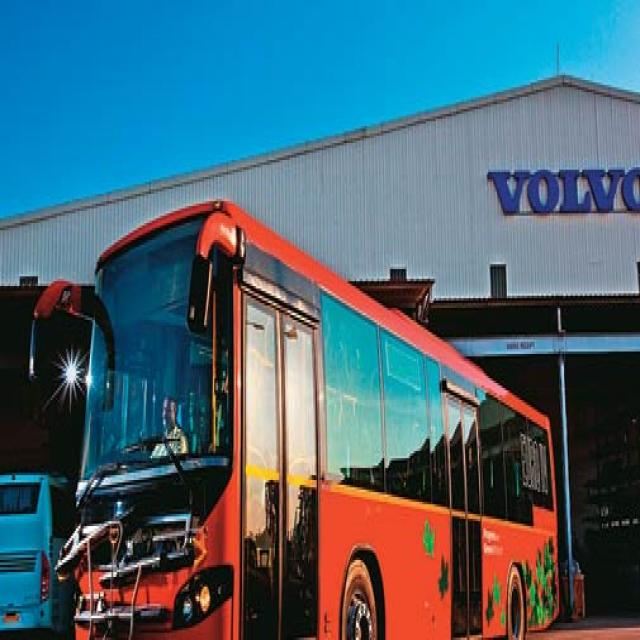bus: (35, 201, 560, 638)
